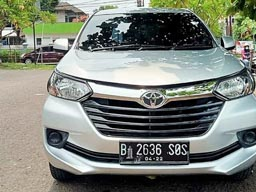plat: (118, 141, 189, 156)
